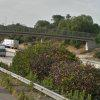Tree: (18, 39, 96, 88)
